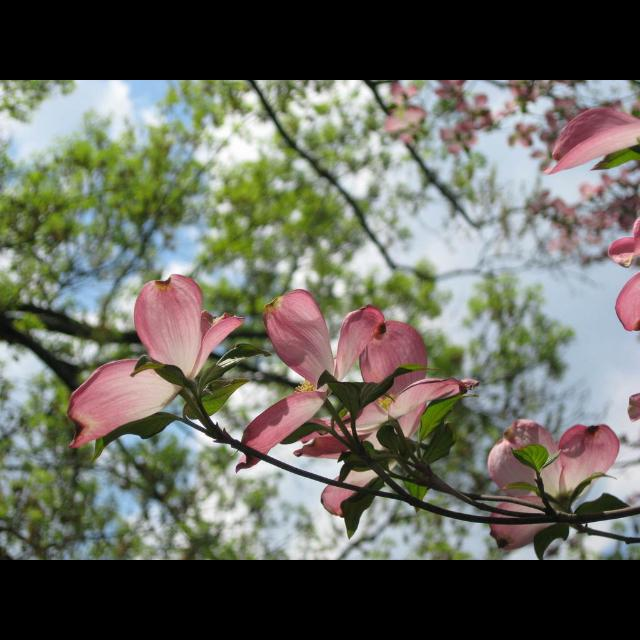Flower: (231, 277, 469, 488), (66, 272, 242, 448), (487, 417, 619, 551), (541, 108, 639, 172)
